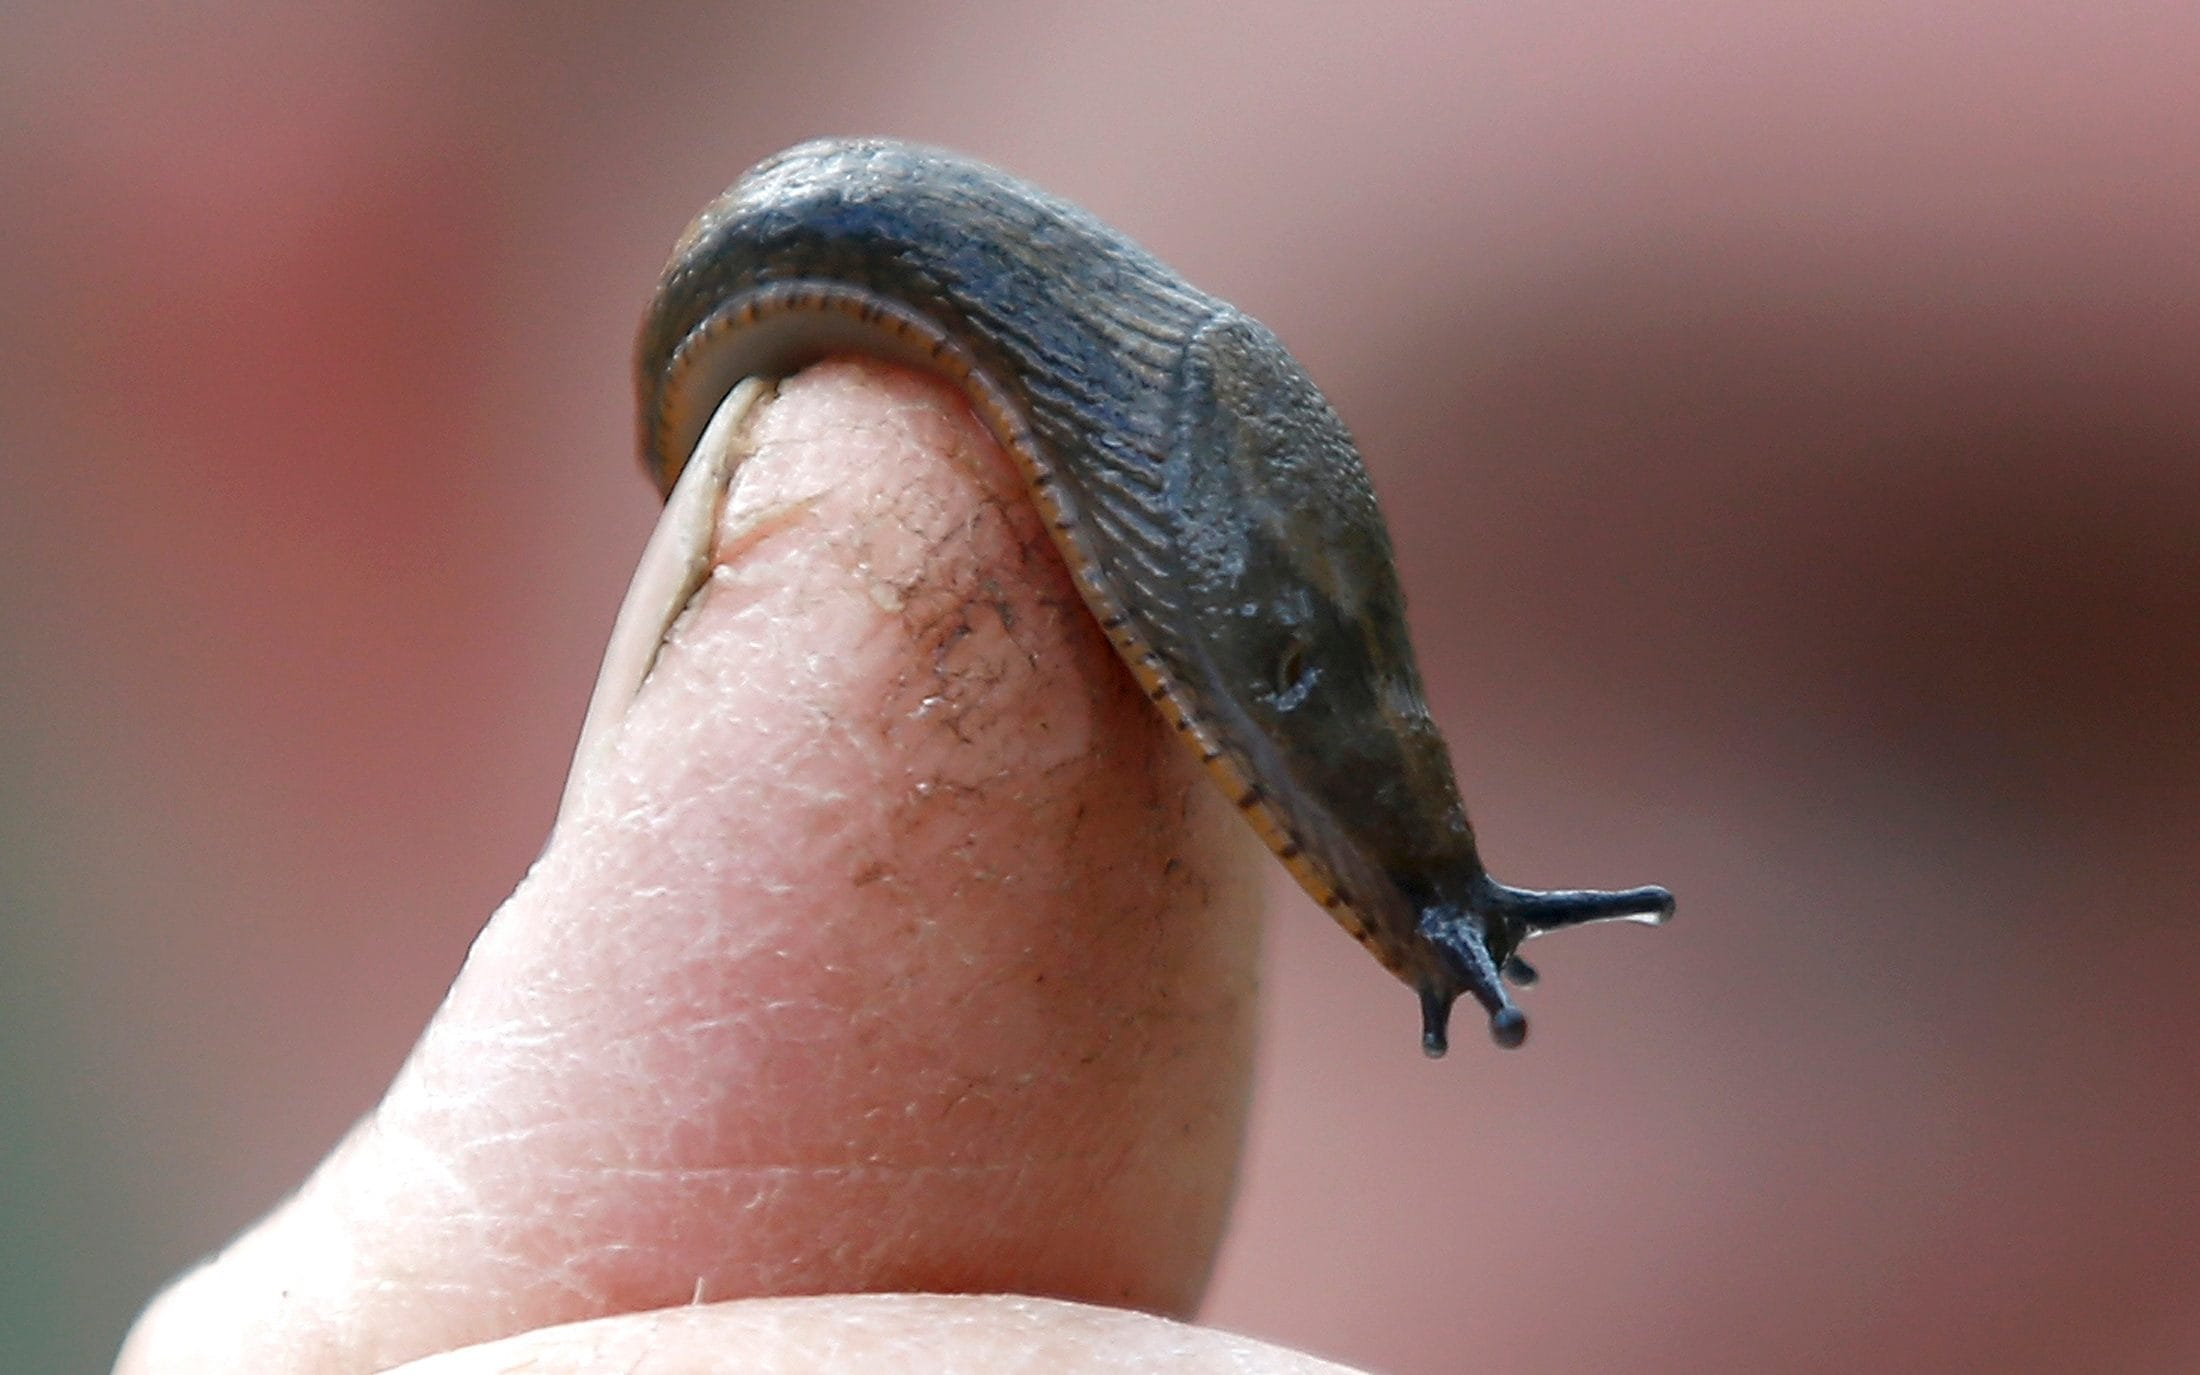slug: (637, 135, 1680, 1072)
